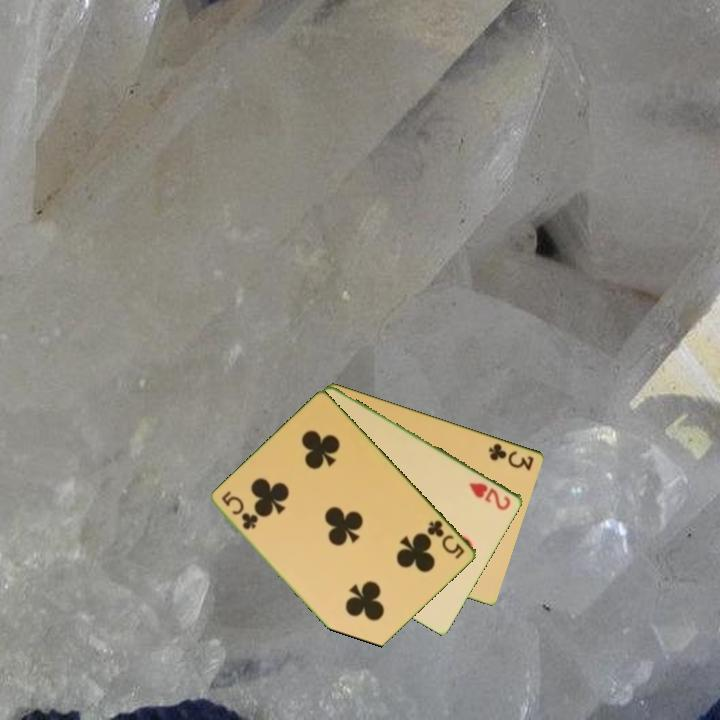2h: (466, 479, 514, 513)
3c: (485, 439, 537, 473)
5c: (424, 516, 468, 562), (218, 488, 261, 533)
